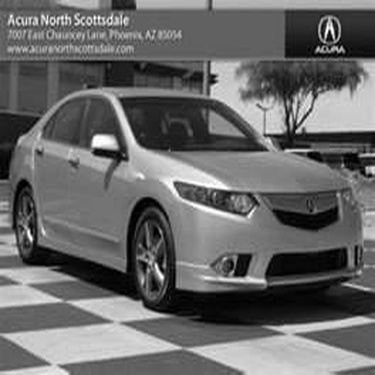car: (15, 78, 371, 322)
